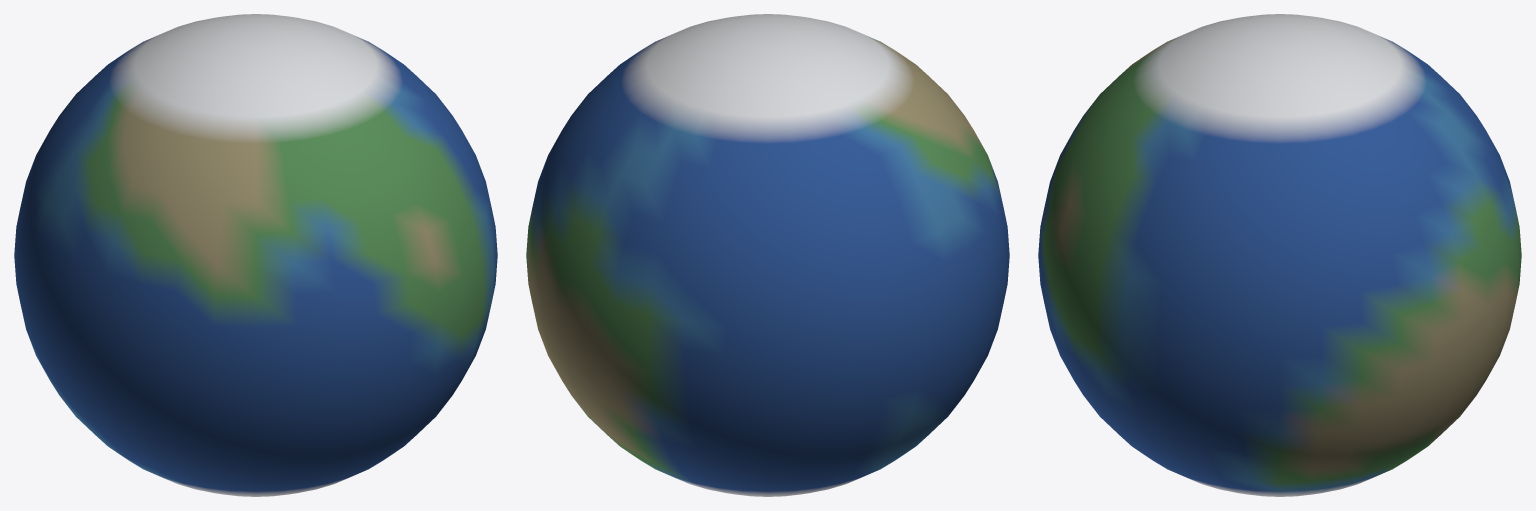
The model's file is earth.glb.
The picture shows the model from 3 angles, left to right: view 1: azimuth 30°, elevation 25°; view 2: azimuth 150°, elevation 25°; view 3: azimuth 270°, elevation 25°; orthographic projection.
Parts seen in each view (by area): view 1: earth; view 2: earth; view 3: earth.
Part boxes in pixels (x1,y1,x2,y2): earth: (14,14,497,496); earth: (526,14,1009,496); earth: (1038,14,1521,496).
Size of the model in its own units: 2 by 2 by 2.
